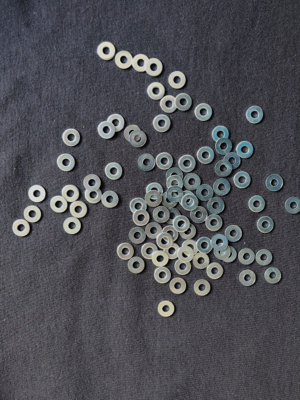circle: (12, 217, 33, 239), (62, 215, 82, 237), (96, 41, 116, 61), (195, 103, 215, 122), (27, 185, 47, 204), (126, 257, 147, 275), (168, 71, 187, 90), (146, 82, 165, 101), (246, 105, 265, 124), (264, 267, 283, 286), (132, 53, 150, 73), (115, 50, 133, 70), (69, 201, 89, 219), (23, 206, 43, 224), (256, 216, 276, 234), (145, 59, 164, 77), (175, 94, 194, 112), (160, 95, 179, 113), (106, 114, 125, 132), (98, 121, 116, 140), (179, 154, 197, 173), (156, 152, 174, 171), (83, 174, 102, 192), (165, 176, 184, 194), (196, 184, 214, 203), (220, 245, 238, 264), (255, 250, 274, 268), (204, 215, 224, 232), (156, 301, 176, 318), (154, 115, 172, 133), (63, 129, 81, 147), (237, 141, 255, 159), (137, 154, 155, 172), (62, 185, 80, 203), (146, 182, 164, 200), (117, 243, 135, 261), (169, 278, 187, 296), (163, 243, 181, 261), (206, 262, 224, 280), (225, 225, 243, 243), (213, 243, 231, 261), (234, 172, 252, 190), (172, 216, 191, 233), (130, 130, 147, 148), (124, 125, 142, 142), (212, 125, 229, 143), (216, 138, 233, 156), (58, 154, 76, 171), (106, 162, 123, 180), (101, 191, 119, 208), (50, 196, 68, 213), (165, 168, 183, 185), (166, 186, 184, 203), (208, 197, 226, 214), (191, 206, 209, 223), (145, 222, 163, 239), (141, 243, 159, 260), (154, 267, 172, 284), (181, 240, 199, 257), (194, 280, 212, 297), (239, 270, 257, 287), (249, 195, 266, 213), (266, 175, 284, 192), (161, 192, 180, 208), (179, 224, 198, 240), (224, 153, 241, 170), (215, 161, 232, 178), (198, 147, 215, 164), (130, 198, 147, 215), (153, 207, 170, 224), (163, 226, 180, 243), (152, 251, 169, 268), (175, 259, 192, 276), (193, 253, 210, 270), (239, 249, 256, 266), (85, 189, 103, 205), (213, 179, 231, 195), (132, 210, 150, 226), (129, 228, 147, 244), (177, 247, 195, 263), (185, 173, 202, 189), (145, 192, 162, 208), (179, 191, 195, 208), (182, 195, 199, 211), (165, 208, 181, 225), (157, 233, 174, 249), (197, 237, 213, 254), (212, 234, 228, 251), (285, 197, 300, 215)
